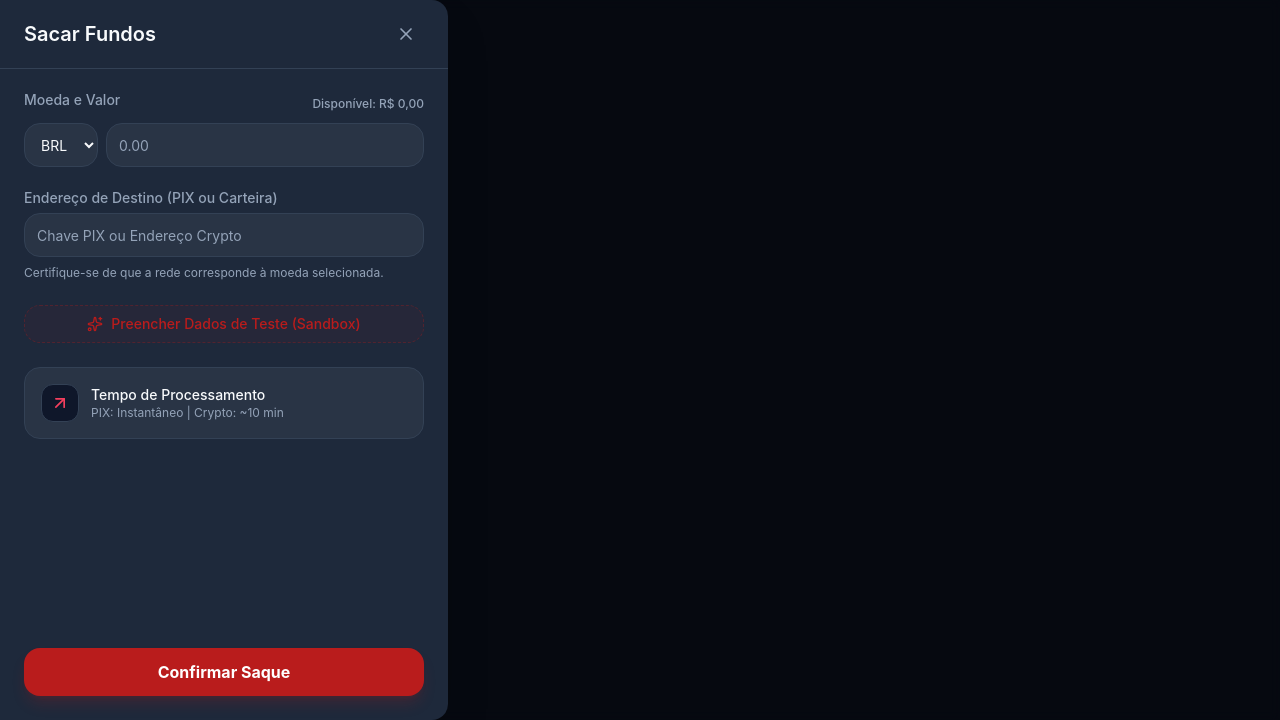
WithdrawDrawer › should execute withdrawal successfully
Autofill values (BRL by default)
Click the button "Preencher Dados de Teste (Sandbox)" at point(224, 324), box [24,305,424,343]
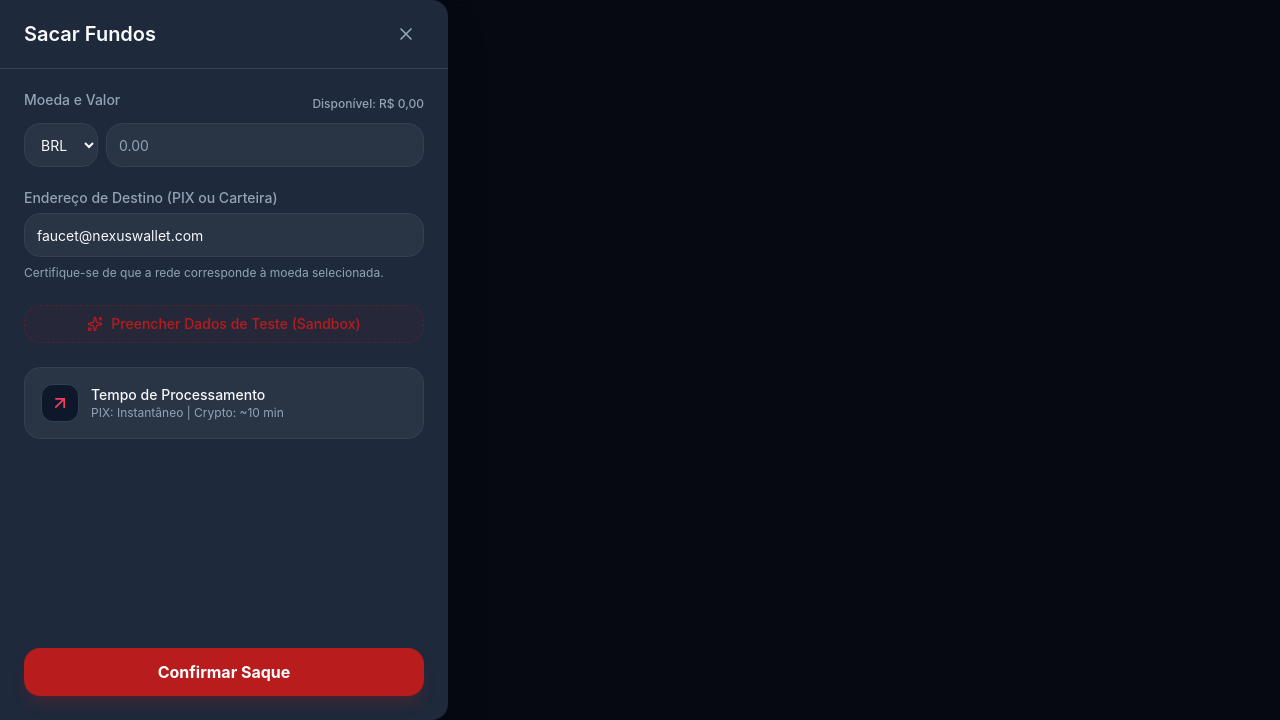
Manually fill amount since autofill no longer does it
Type "150.00" into the field with placeholder "0.00" at point(265, 145), box [106,123,424,167]
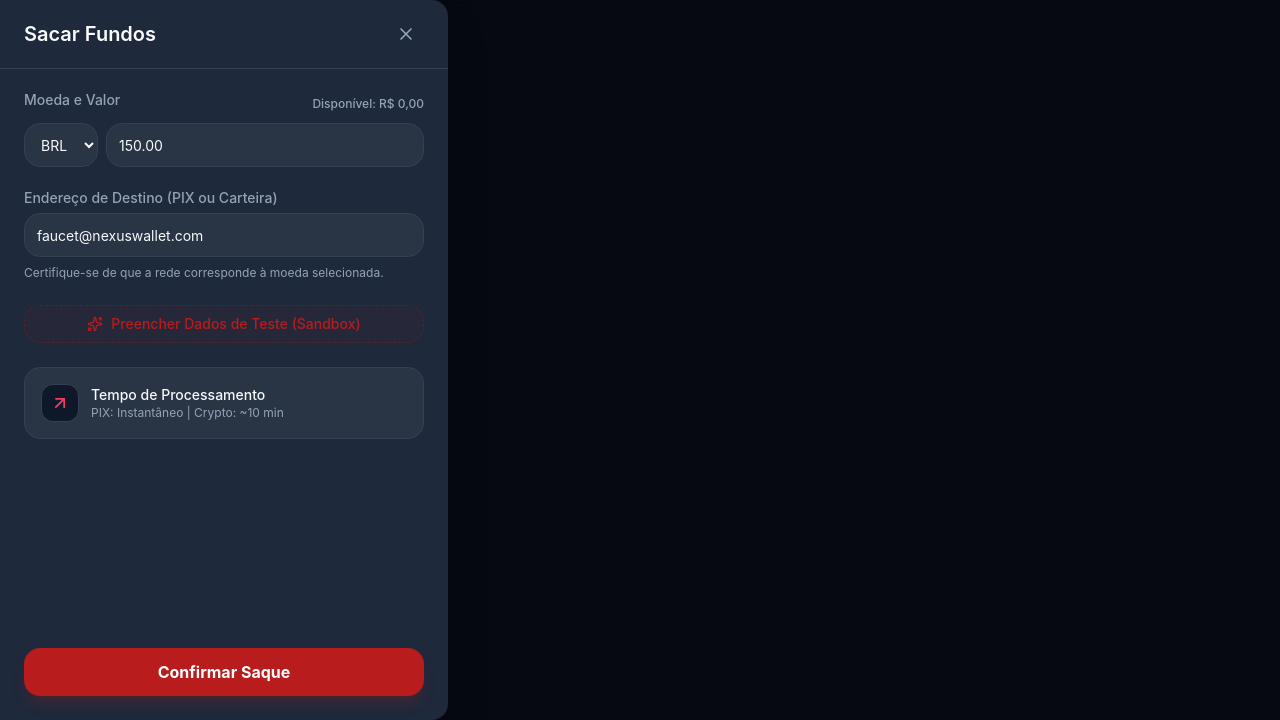
Click the button "Confirmar Saque" at point(224, 672), box [24,648,424,696]
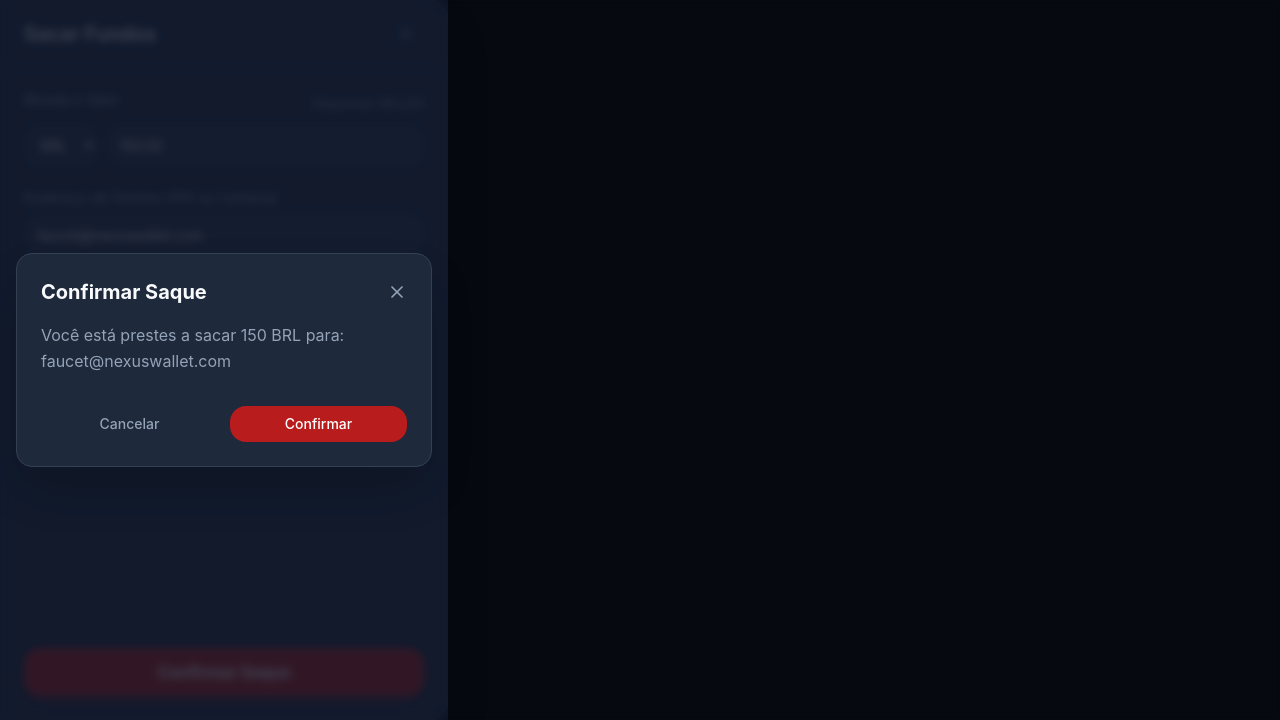
Confirm Modal opens
Click the button "Confirmar" at point(318, 424), box [230,406,407,442]
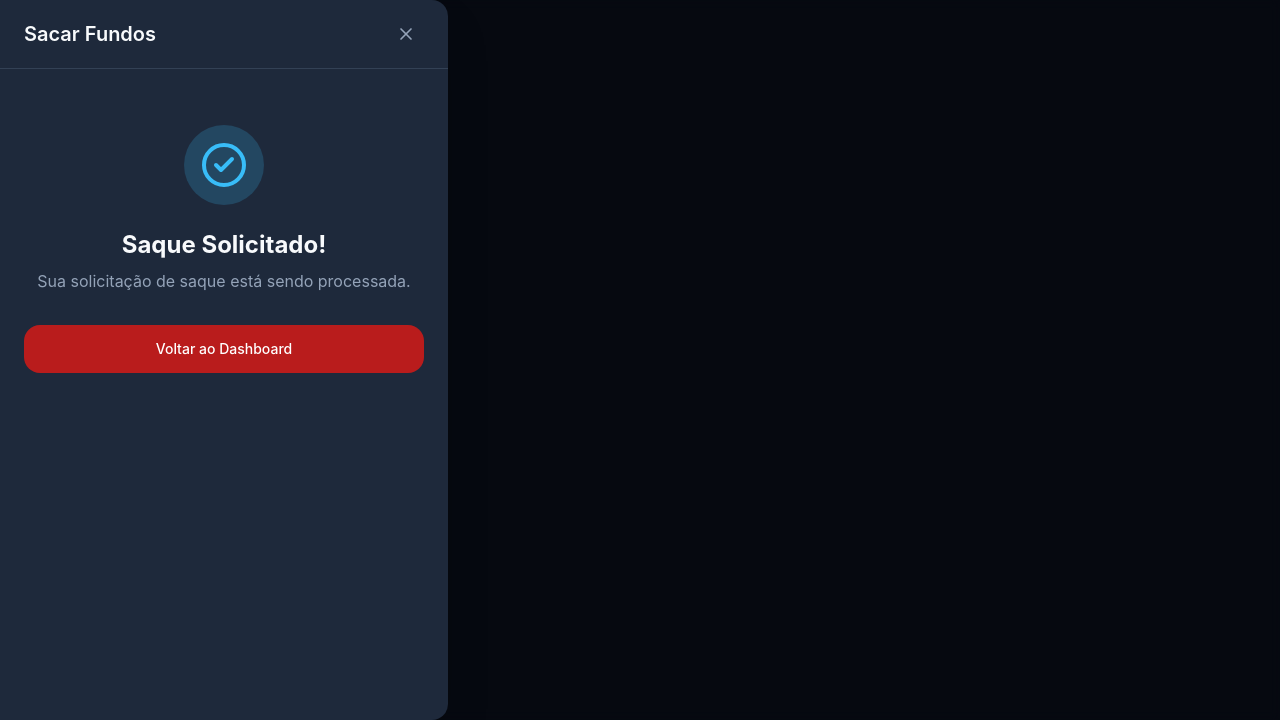
Expected: the heading "Saque Solicitado!" is shown, [122,230,326,259]
